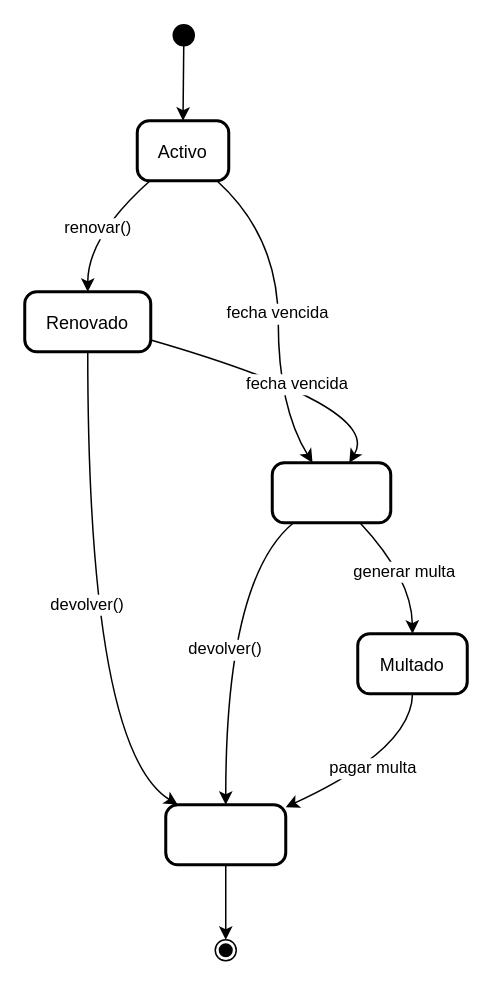
Some shapes in this 492 by 986 pixel diagram are drawn without their labels. Each missing label, with the centre of its shape:
"Atrasado" belongs at point 331,492.
"Devuelto" belongs at point 225,834.
